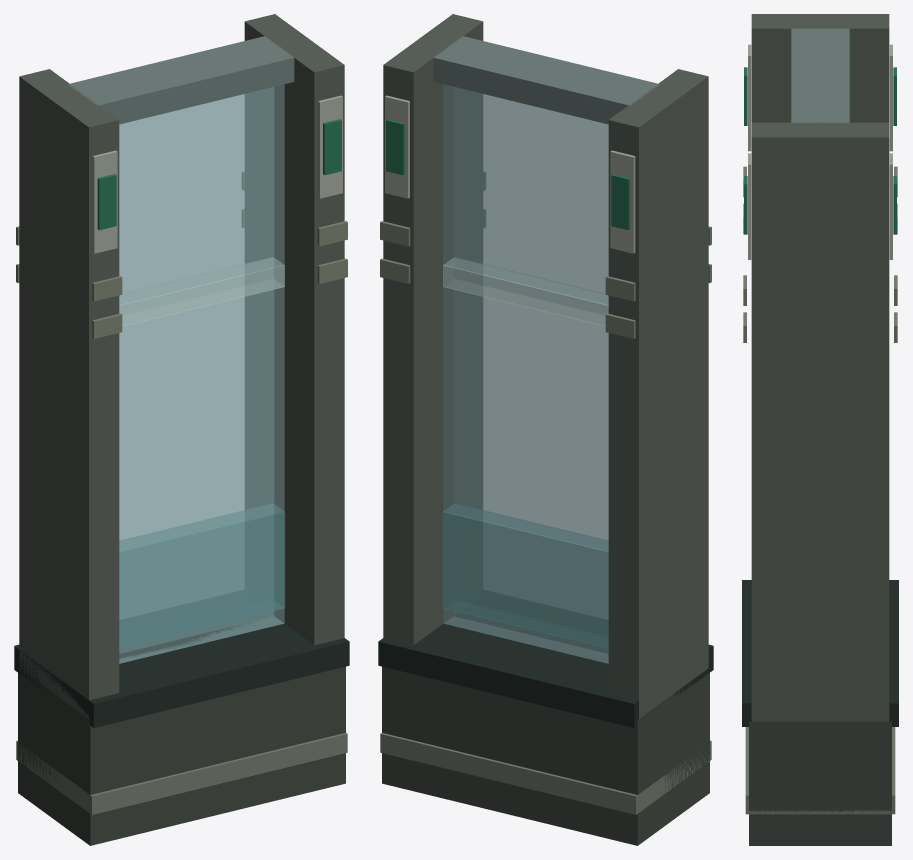
File: CMU3DHybrisaMedicalWindow.glb
The picture shows the model from 3 angles, left to right: view 1: azimuth 30°, elevation 25°; view 2: azimuth 150°, elevation 25°; view 3: azimuth 270°, elevation 25°; orthographic projection.
Parts seen in each view (by area): view 1: department window pier (×2), large pale blue pane, window lower structural course, glass lower blue band, raised dark sill, window crown rail, pale lower sill trim, glass upper reflection band, window-pier top badge socket (×2), window department badge (×2); view 2: department window pier (×2), large pale blue pane, window lower structural course, glass lower blue band, raised dark sill, window crown rail, pale lower sill trim, glass upper reflection band, window-pier top badge socket (×2), window department badge (×2); view 3: department window pier (×2), window lower structural course, window crown rail, raised dark sill, window-pier top badge socket (×4), pale lower sill trim.
Boxes of the visible parts, left/top/right/bottom form: department window pier (×2): left=19, top=14, right=344, bottom=718; large pale blue pane: left=119, top=84, right=284, bottom=663; window lower structural course: left=18, top=666, right=345, bottom=845; glass lower blue band: left=119, top=504, right=285, bottom=648; raised dark sill: left=14, top=612, right=349, bottom=727; window crown rail: left=68, top=36, right=294, bottom=124; pale lower sill trim: left=16, top=733, right=347, bottom=814; glass upper reflection band: left=119, top=257, right=284, bottom=326; window-pier top badge socket (×2): left=92, top=95, right=342, bottom=253; window department badge (×2): left=97, top=119, right=341, bottom=230; department window pier (×2): left=383, top=14, right=708, bottom=718; large pale blue pane: left=443, top=84, right=608, bottom=663; window lower structural course: left=382, top=666, right=709, bottom=845; glass lower blue band: left=442, top=504, right=608, bottom=648; raised dark sill: left=378, top=612, right=713, bottom=727; window crown rail: left=432, top=36, right=659, bottom=124; pale lower sill trim: left=380, top=733, right=711, bottom=814; glass upper reflection band: left=443, top=257, right=608, bottom=326; window-pier top badge socket (×2): left=385, top=95, right=635, bottom=253; window department badge (×2): left=386, top=119, right=630, bottom=230; department window pier (×2): left=751, top=14, right=889, bottom=721; window lower structural course: left=749, top=721, right=891, bottom=845; window crown rail: left=791, top=28, right=849, bottom=123; raised dark sill: left=742, top=580, right=898, bottom=726; window-pier top badge socket (×4): left=748, top=44, right=892, bottom=259; pale lower sill trim: left=745, top=727, right=895, bottom=814.
Bounding box in the file's own units: 1 × 2.68 × 0.538.
